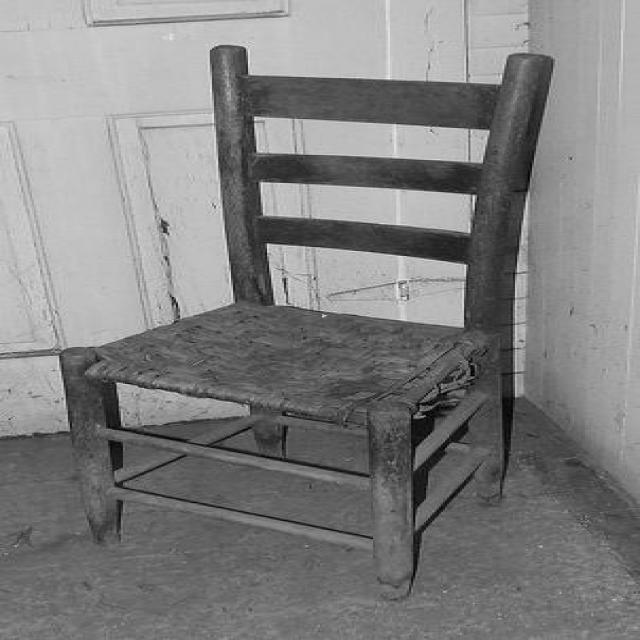chair: (67, 44, 569, 594)
